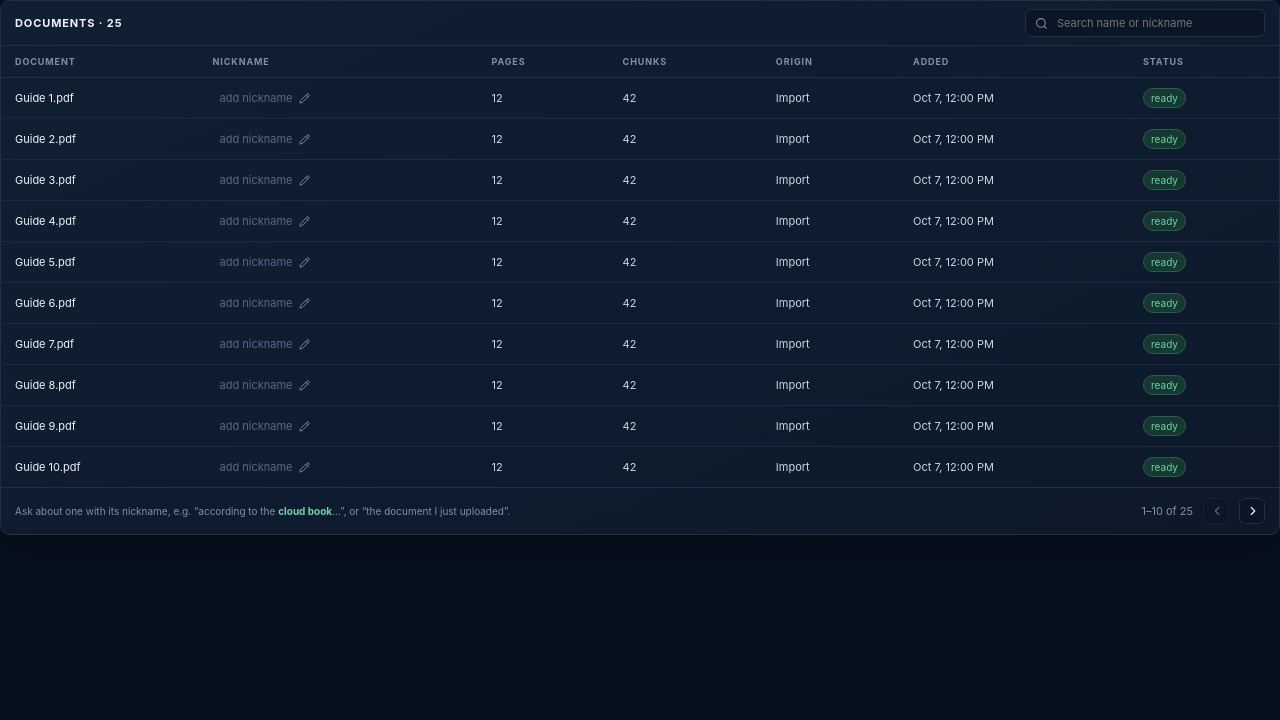
Test: DocumentsTable search › waits for typing to pause, then searches from the first page
The width and height of the screenshot is (1280, 720).
Expected: the text "Guide 1.pdf" is shown, [1, 78, 198, 118]
Step 1. Click the button named "Next page" → (1252, 511), box [1239, 498, 1265, 524]
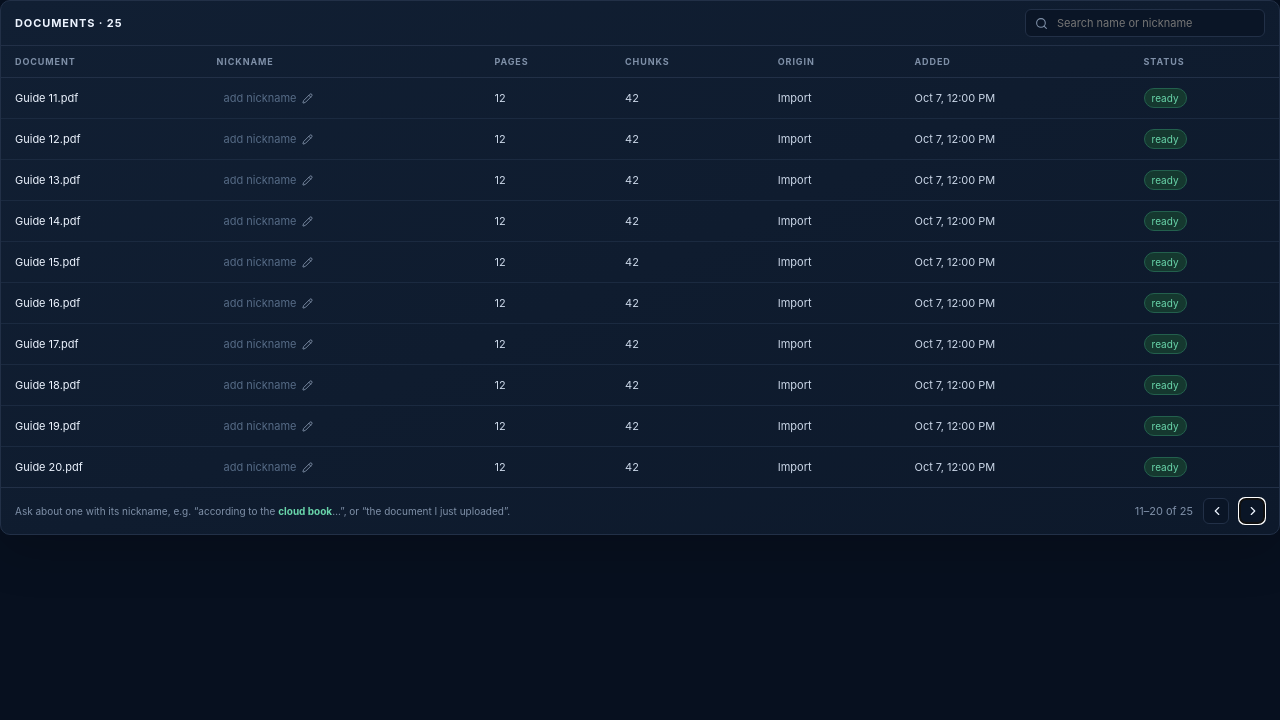
Result: the text "Guide 11.pdf" is shown at [1, 78, 202, 118]
Step 2. Type "  guide 2  " into the field with placeholder "Search name or nickname" → (1155, 23), box [1055, 15, 1255, 31]
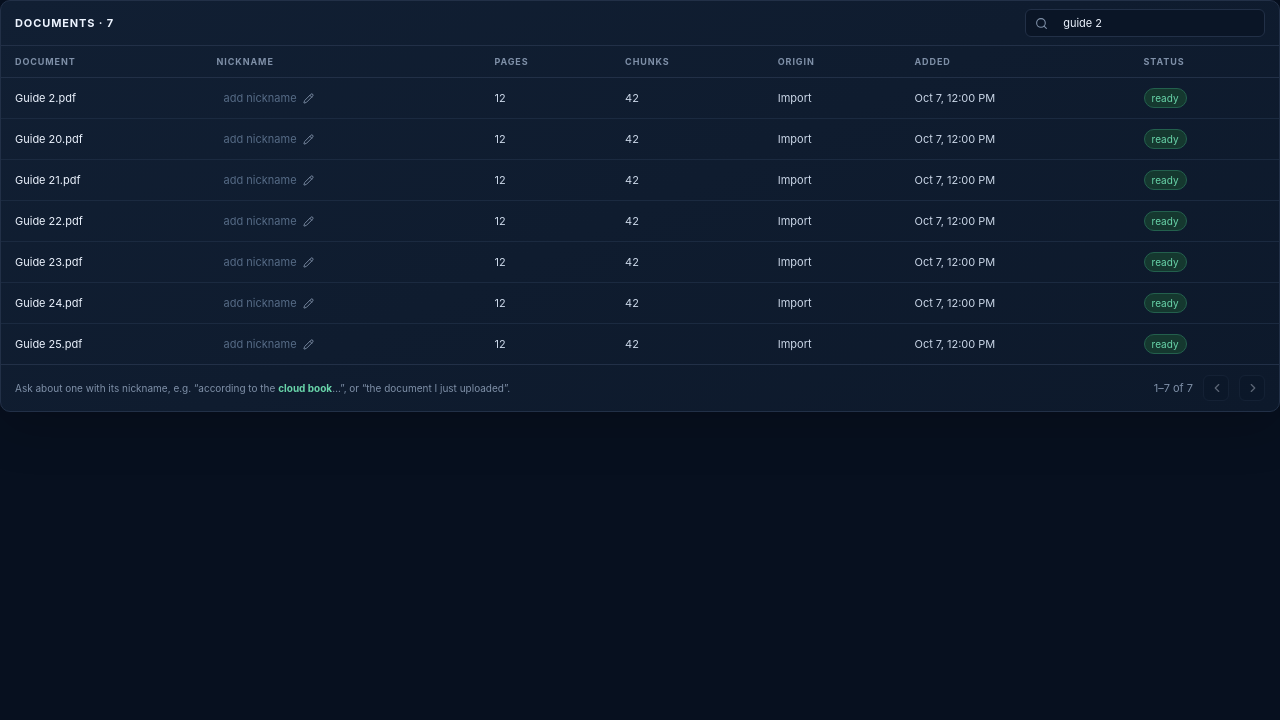
Expected: the text "Guide 3.pdf" is not shown
Result: the text "Guide 2.pdf" is shown at [1, 78, 203, 118]
Result: the text "Guide 25.pdf" is shown at [1, 324, 203, 364]
